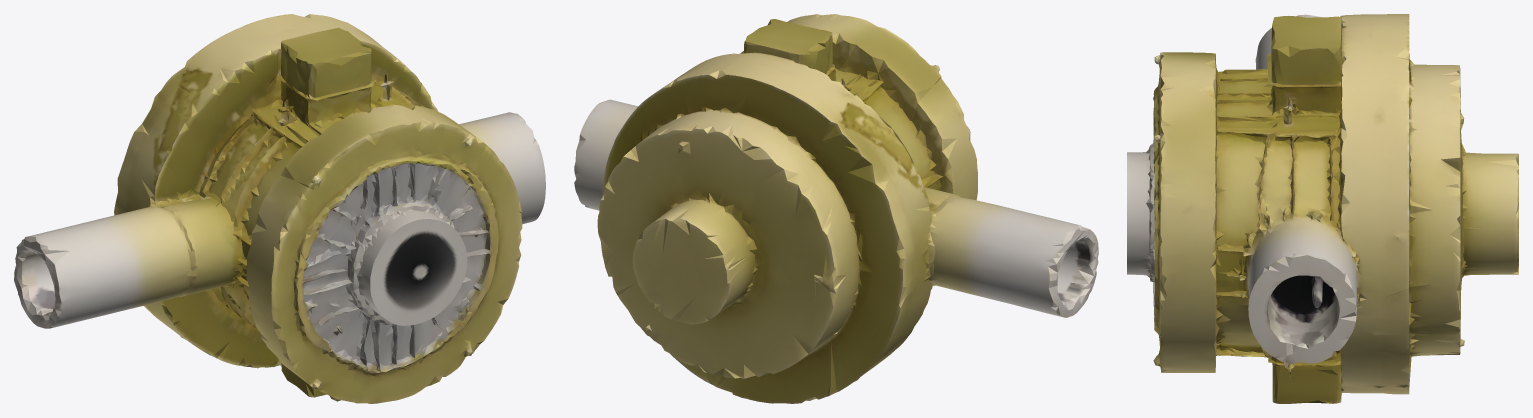
Rendered from centurion_engine_main.glb.
3 views of the same model, side by side, from view 1: azimuth 30°, elevation 25°; view 2: azimuth 150°, elevation 25°; view 3: azimuth 270°, elevation 25° (orthographic). The views are drawn at different scales.
Parts seen in each view (by area): view 1: centurion_engine_main; view 2: centurion_engine_main; view 3: centurion_engine_main.
Part boxes in pixels (bbox=[...]): centurion_engine_main: bbox=[14, 14, 545, 403]; centurion_engine_main: bbox=[574, 14, 1098, 403]; centurion_engine_main: bbox=[1127, 14, 1518, 403].
Bounding box in the file's own units: 1.89 × 1.25 × 1.25.
1 material, 1 textured.
